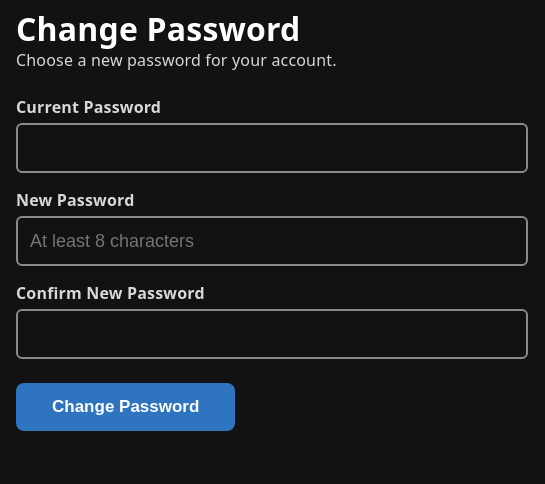
Test case: ChangePasswordScreen errors (spec 016) › marks and focuses the right field when the new password is unchanged
The image size is (545, 484).
Type "same-secret" into the password field labelled "Current Password".
click(272, 148); type("same-secret")  # box x1=16 y1=123 x2=528 y2=173
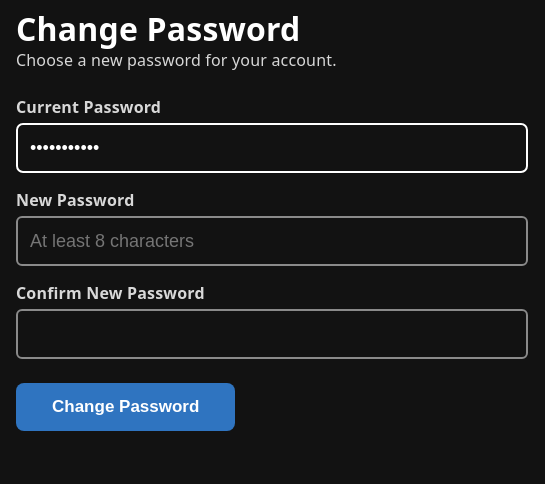
Type "same-secret" into the password field labelled "New Password".
click(272, 241); type("same-secret")  # box x1=16 y1=216 x2=528 y2=266
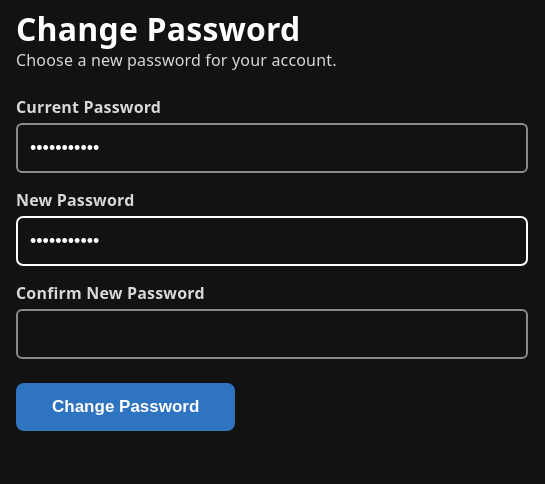
Type "same-secret" into the password field labelled "Confirm New Password".
click(272, 334); type("same-secret")  # box x1=16 y1=310 x2=528 y2=360
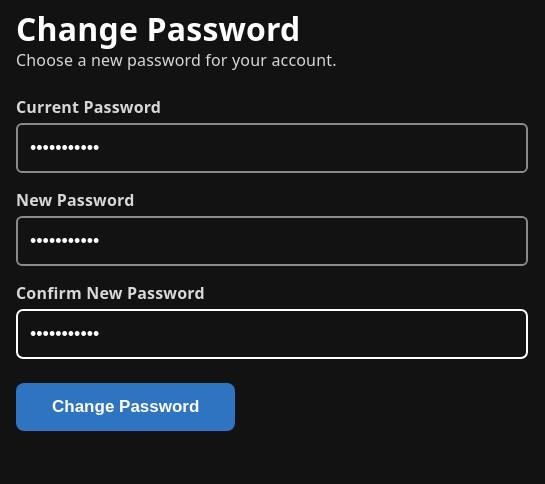
Click the button "Change Password".
click(126, 408)  # box x1=16 y1=384 x2=235 y2=432
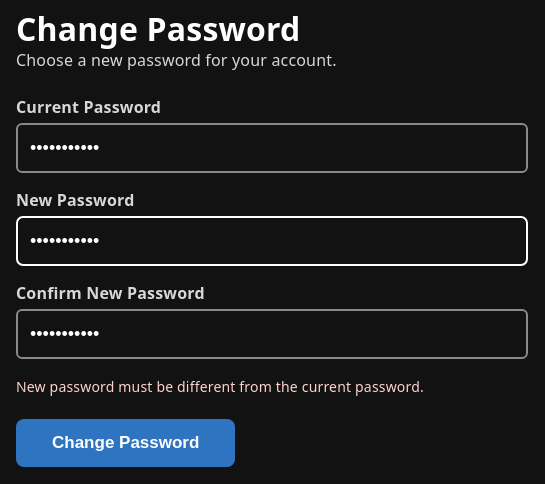
Check: the message "New password must be different from the current password." is shown, box x1=16 y1=378 x2=424 y2=396
